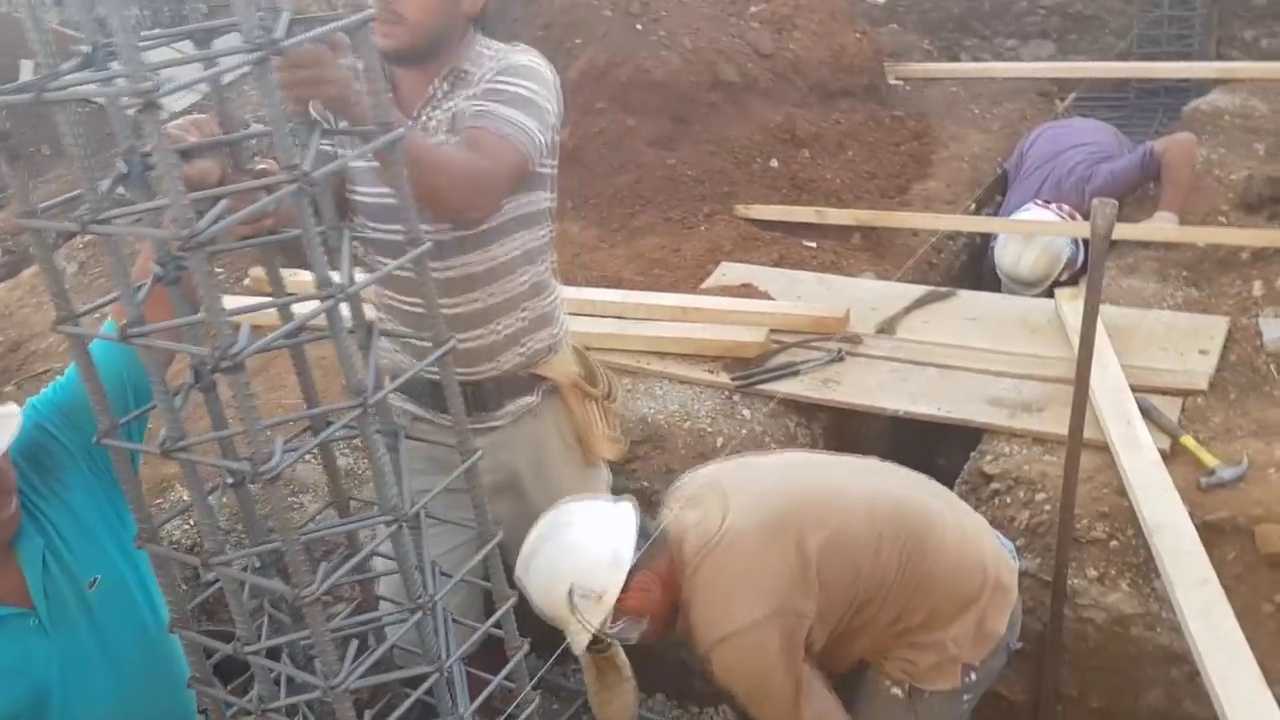helmet: (516, 497, 626, 657), (992, 207, 1072, 291)
helmet-off: (349, 0, 484, 140)
helmet-on: (516, 478, 697, 674), (991, 189, 1094, 294)
person: (235, 0, 643, 713), (0, 111, 232, 719), (514, 447, 1027, 720), (991, 119, 1198, 293)
